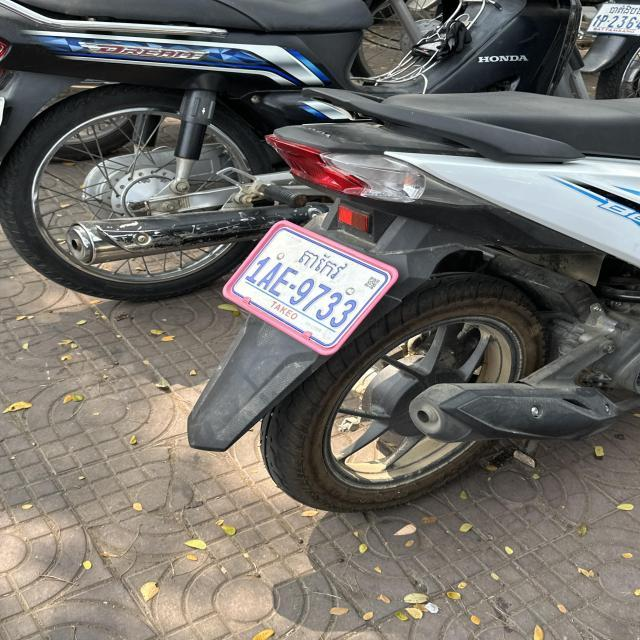Takeo: (298, 250, 349, 279)
